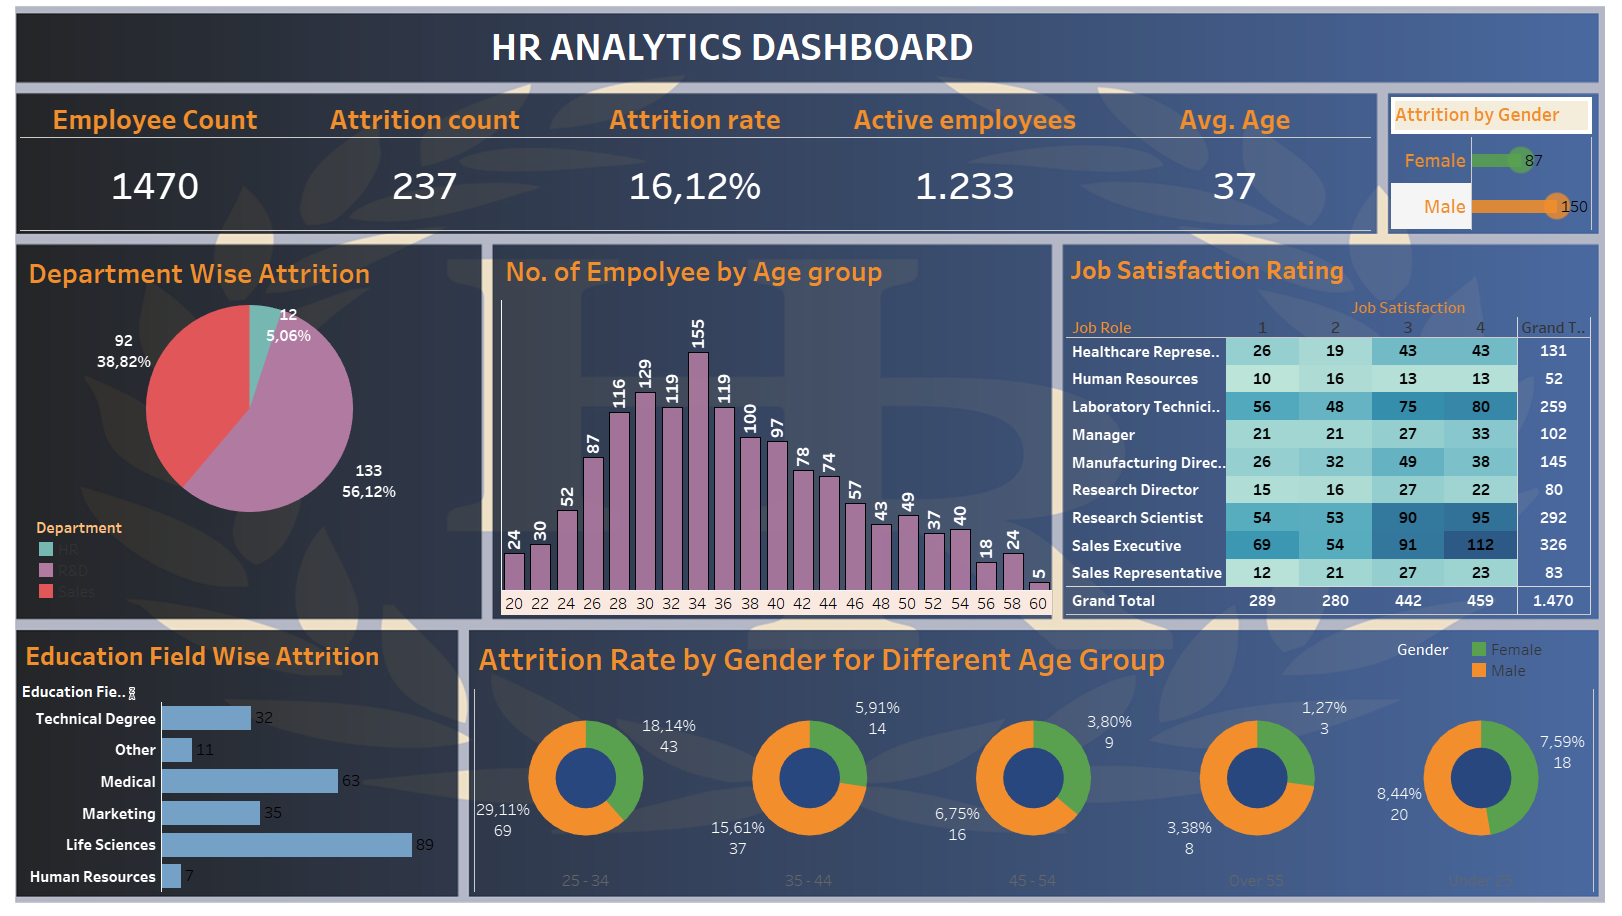

The dashboard page shown, as its layout file describes it:
{"tool":"tableau","page":{"name":"HR ANALYSTICS DASHBOARD","canvas":[1000,1000],"units":"permille","ordinal":0},"visuals":[{"type":"image","param":"Image/HR background FINAL.png","box":[4.9,7.5,990.1,984.9]},{"type":"worksheet","title":"HR ANALYTICS DASHBOARD","mark":"Automatic","box":[209.9,20.8,395.7,54.7]},{"type":"worksheet","title":"KPI","mark":"Automatic","box":[14.2,97.2,834,126.4]},{"type":"worksheet","title":"Attrition by Gender","mark":"Bar","rows":["Gender"],"cols":["Calculation_1994813221835288579","Calculation_1994813221835288579"],"box":[860.5,97.2,124.1,125.5]},{"type":"worksheet","title":"No. of Empolyee by Age group","mark":"Automatic","rows":["Employee Count"],"cols":["Age (bin)"],"box":[311.1,239.6,340.1,346.2]},{"type":"worksheet","title":"Job Satisfaction Rating","mark":"Square","rows":["Job Role"],"cols":["Job Satisfaction"],"box":[659.9,239.6,324.1,346.2]},{"type":"worksheet","title":"Department Wise Attrition","mark":"Pie","box":[16.7,241.5,278.4,250]},{"type":"legend","title":"Department Wise Attrition","param":"[federated.0k46y8f165eetw15dv4mh13nluim].[none:Department:nk]","box":[24.1,493.4,86.4,80.2]},{"type":"worksheet","title":"Attrition Rate by Gender for Different Age Group","mark":"Pie","rows":["Calculation_1994813221886709767","Calculation_1994813221886709767"],"cols":["CF_age band"],"box":[294.4,602.8,691.4,245.3]},{"type":"worksheet","title":"Education Field Wise Attrition","mark":"Automatic","rows":["Education Field"],"cols":["Calculation_1994813221835288579"],"box":[14.8,603.8,265.4,243.4]},{"type":"legend","title":"Attrition Rate by Gender for Different Age Group","param":"[federated.0k46y8f165eetw15dv4mh13nluim].[none:Gender:nk]","box":[864.2,608.5,114.8,39.6]}]}

Visuals, with their boxes on the dashboard's canvas, which has no fixed pixel size, in thousandths of its width and height (x1, y1, x2, y2). These are canvas units, not pixel positions in the 1622x916 screenshot, which may show the page scaled, cropped or inside an application window:
image: Rect(5, 8, 995, 992)
"HR ANALYTICS DASHBOARD" worksheet: Rect(210, 21, 606, 76)
"KPI" worksheet: Rect(14, 97, 848, 224)
"Attrition by Gender" worksheet (Bar marks): Rect(860, 97, 985, 223)
"No. of Empolyee by Age group" worksheet: Rect(311, 240, 651, 586)
"Job Satisfaction Rating" worksheet (Square marks): Rect(660, 240, 984, 586)
"Department Wise Attrition" worksheet (Pie marks): Rect(17, 242, 295, 492)
"Department Wise Attrition" legend: Rect(24, 493, 110, 574)
"Attrition Rate by Gender for Different Age Group" worksheet (Pie marks): Rect(294, 603, 986, 848)
"Education Field Wise Attrition" worksheet: Rect(15, 604, 280, 847)
"Attrition Rate by Gender for Different Age Group" legend: Rect(864, 608, 979, 648)
